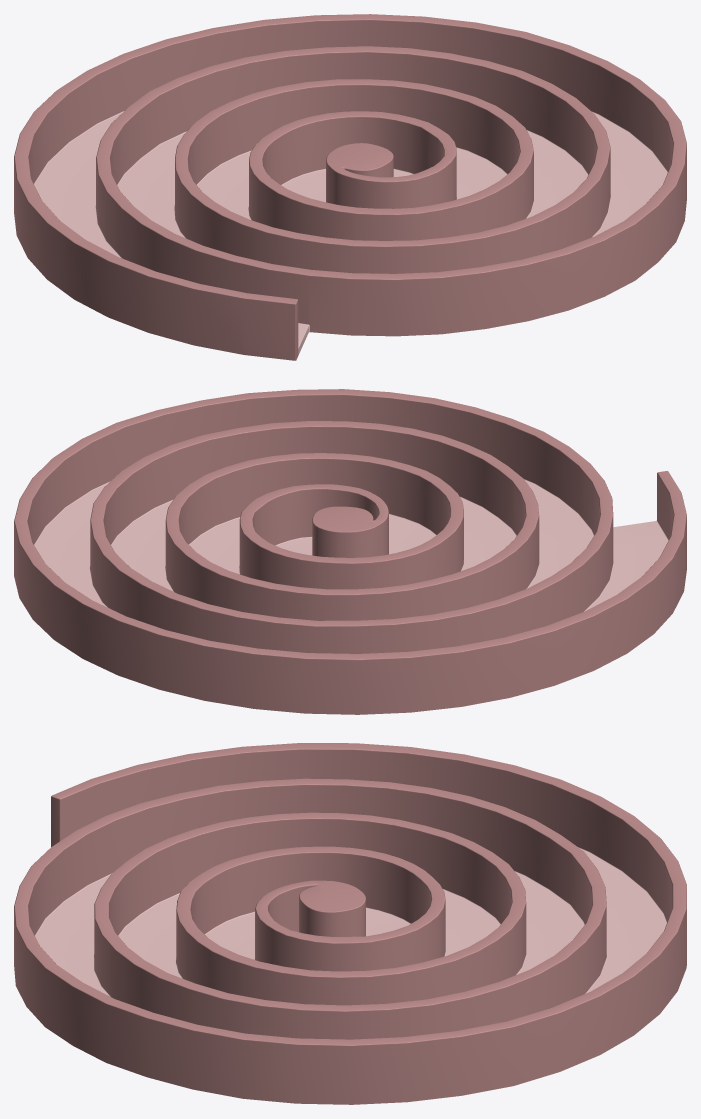
The model's file is spiral.fbx.
3 views of the same model, one above another, from view 1: azimuth 30°, elevation 25°; view 2: azimuth 150°, elevation 25°; view 3: azimuth 270°, elevation 25° (orthographic). The views are drawn at different scales.
Parts seen in each view (by area): view 1: Table_Spiral; view 2: Table_Spiral; view 3: Table_Spiral.
Part boxes in pixels (box(x1,y1,x2,y2)): Table_Spiral: box(14, 14, 686, 360); Table_Spiral: box(14, 389, 686, 714); Table_Spiral: box(14, 743, 686, 1104).
Bounding box in the file's own units: 7.9 × 0.7255 × 7.42.
